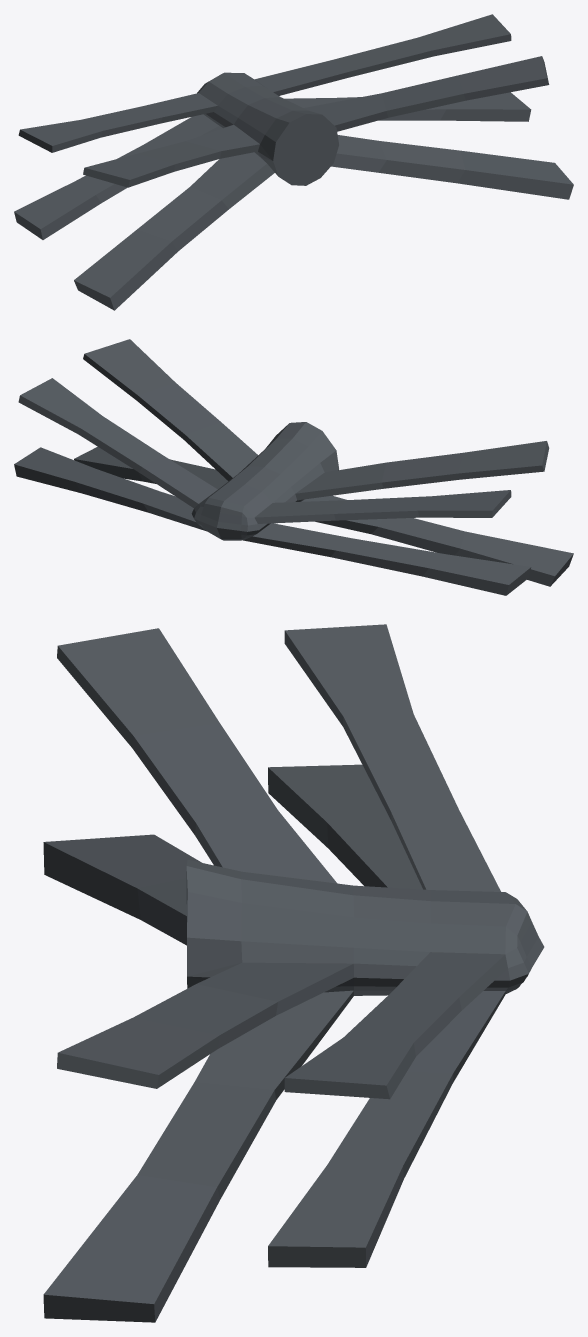
Rendered from Fighter_08_Wings_Yellow.fbx.
3 renders of one model, top to bottom at view 1: azimuth 30°, elevation 25°; view 2: azimuth 150°, elevation 25°; view 3: azimuth 270°, elevation 25°, orthographic. The views are drawn at different scales.
Parts seen in each view (by area): view 1: Fighter_08_Wings_Yellow; view 2: Fighter_08_Wings_Yellow; view 3: Fighter_08_Wings_Yellow.
Boxes of the visible parts, left/top/right/bottom form: Fighter_08_Wings_Yellow: left=14, top=14, right=573, bottom=310; Fighter_08_Wings_Yellow: left=14, top=339, right=573, bottom=595; Fighter_08_Wings_Yellow: left=43, top=624, right=544, bottom=1322.
Size of the model in its own units: 1199 by 286 by 525.
1 material, 1 textured.
